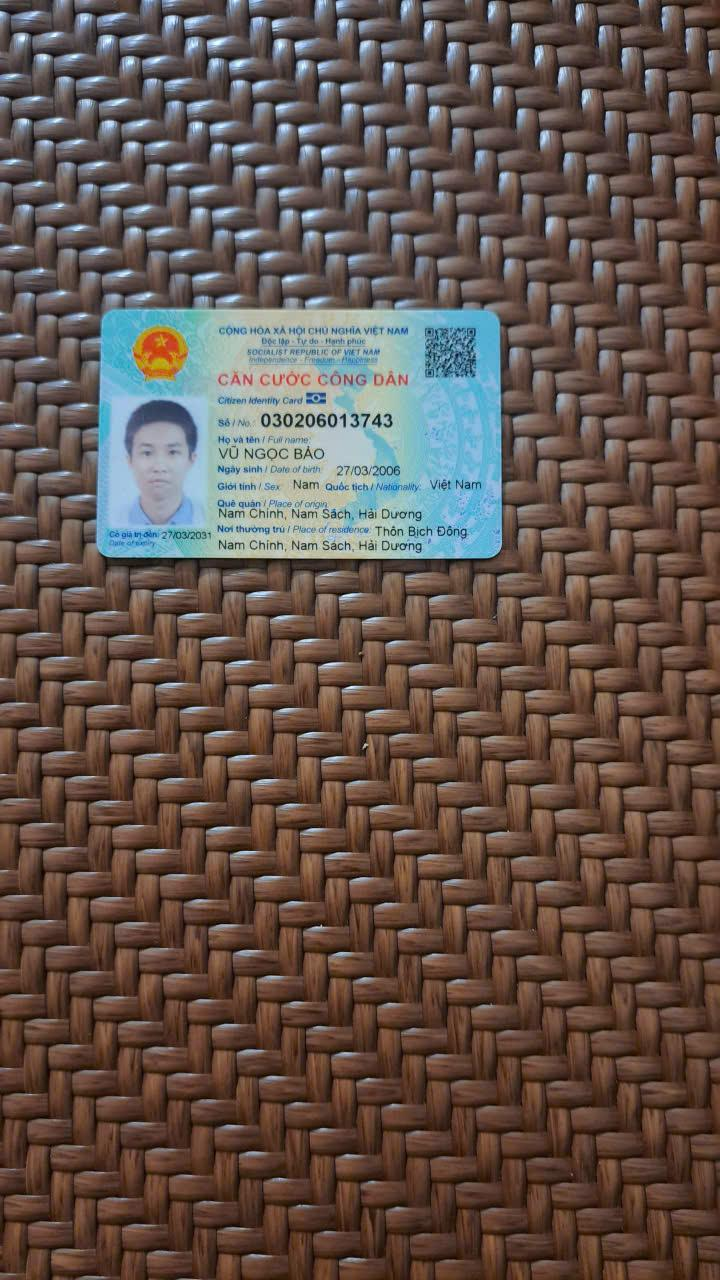cccd: (92, 303, 510, 567)
